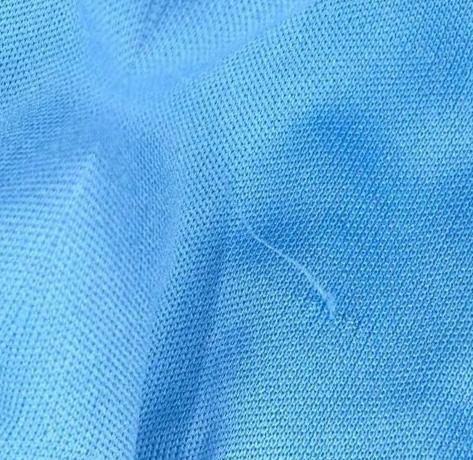snag: (231, 205, 346, 329)
